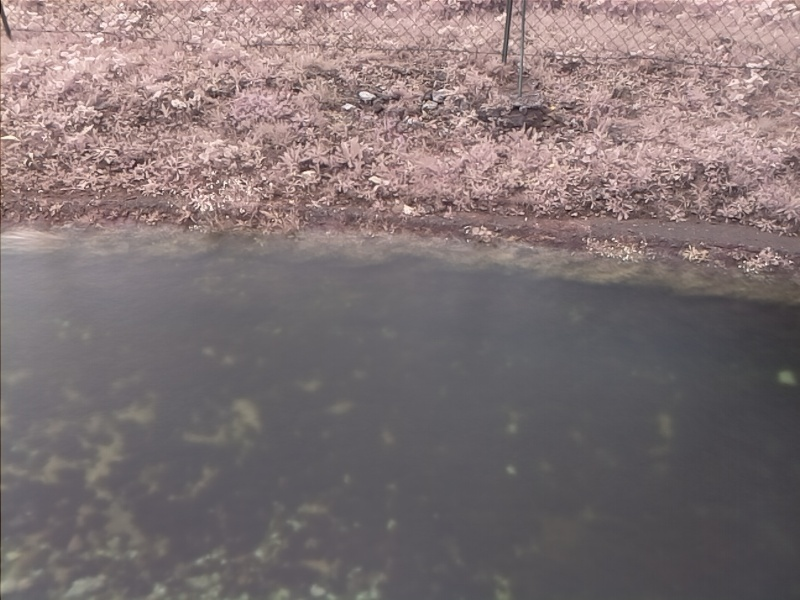Water: (1, 222, 800, 599)
